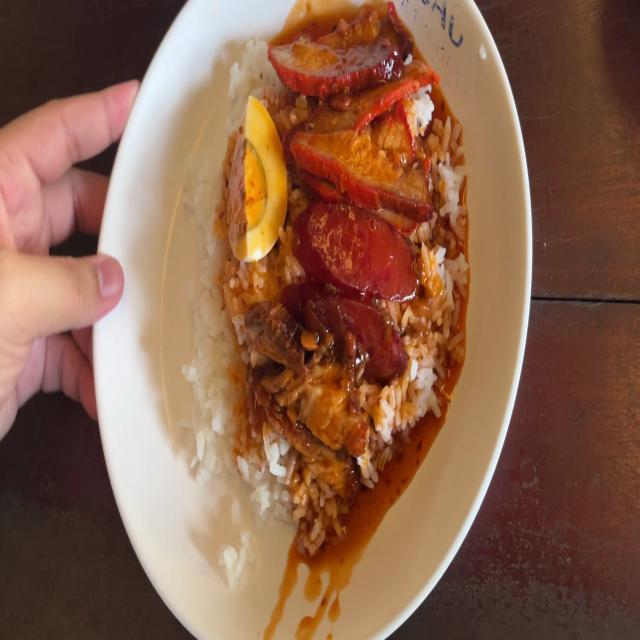01boiled_egg: (229, 104, 290, 256)
01chainese_sausage: (294, 202, 416, 379)
01crispy_pork: (301, 377, 362, 498), (248, 312, 299, 444)
01red_pork: (286, 32, 436, 205)
01red_pork_and_crispy_pork: (201, 31, 458, 524)
01rice: (200, 264, 246, 462), (367, 384, 421, 471)
